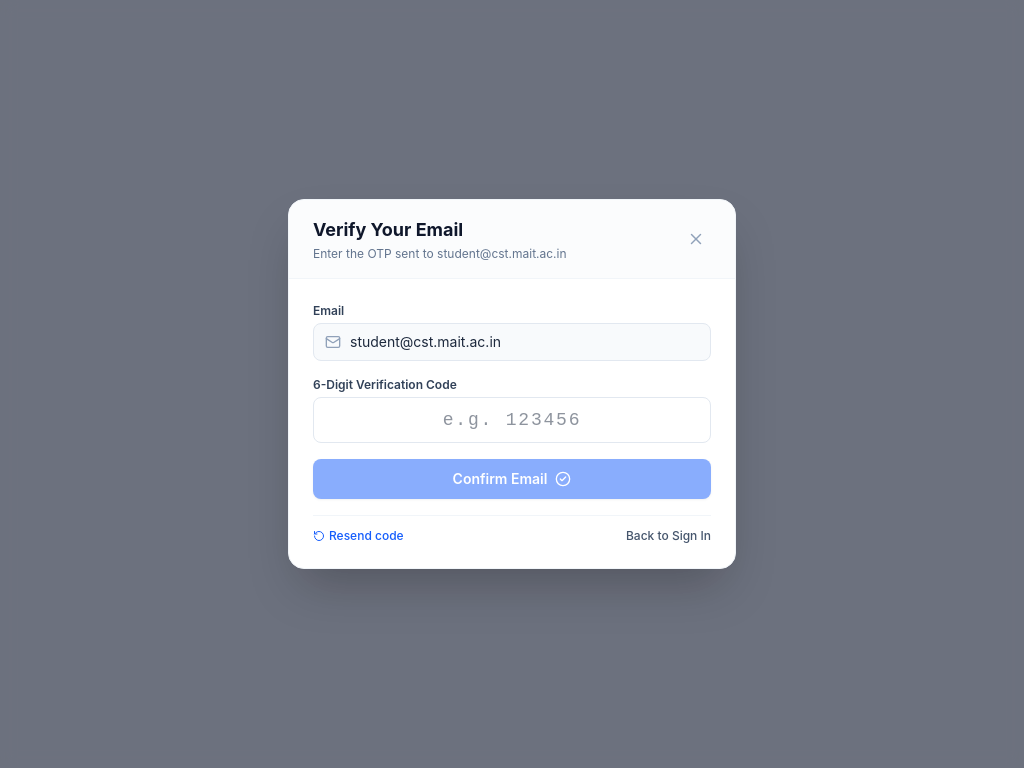
AuthModal Component › allows resending verification code in confirm_signup mode
Click the button "Resend code" at (358, 536), box [313, 528, 404, 544]
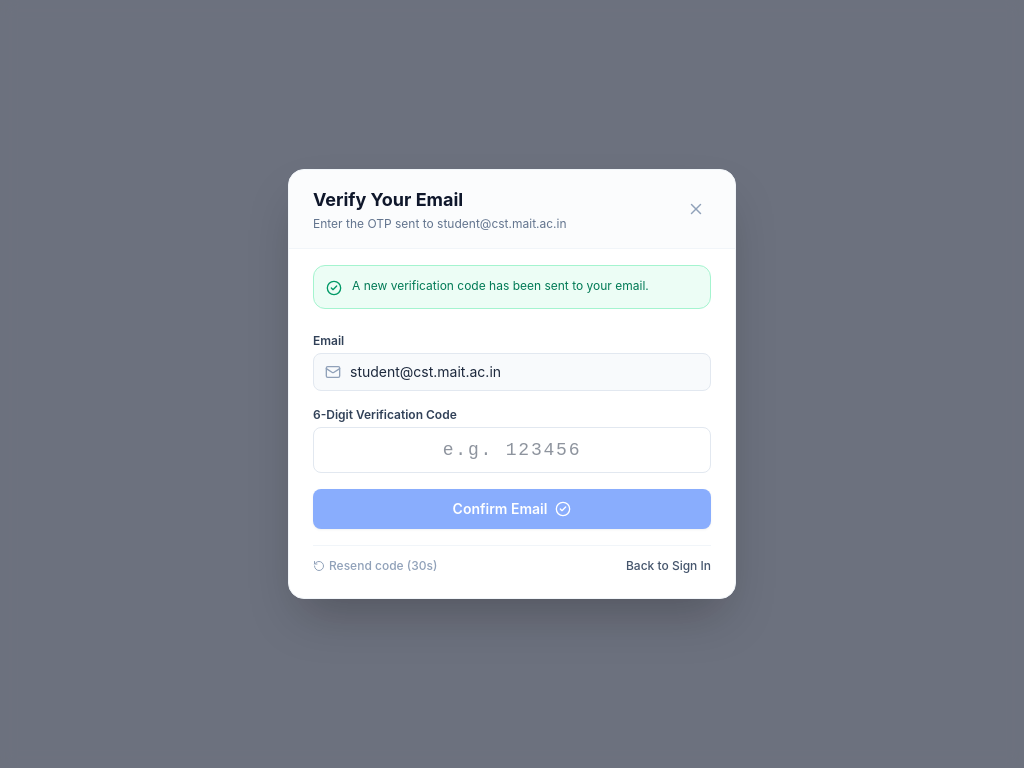
Check: the text "A new verification code has been sent to your email." is shown, box [352, 278, 698, 294]
